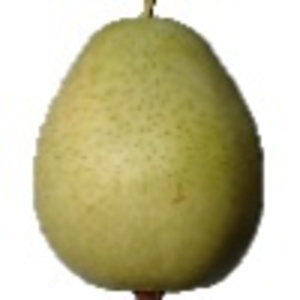pera: (30, 1, 264, 300)
